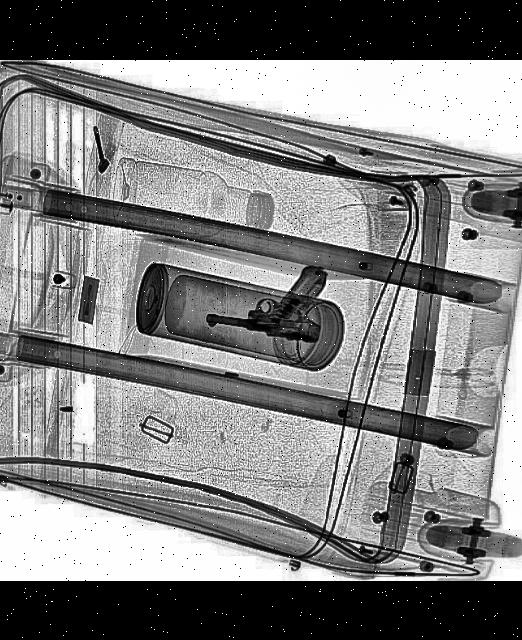Gun: (206, 252, 332, 344)
